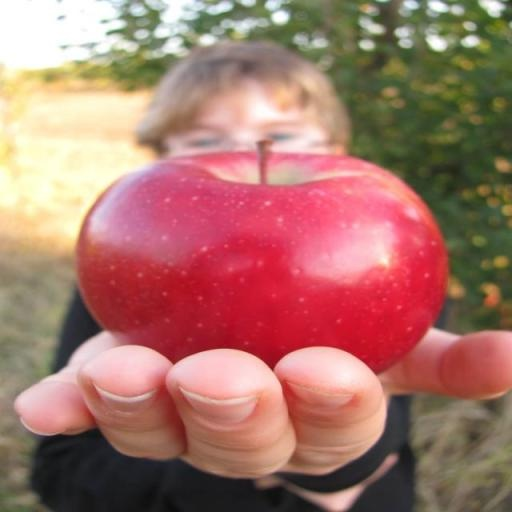fruit: (76, 152, 447, 371)
